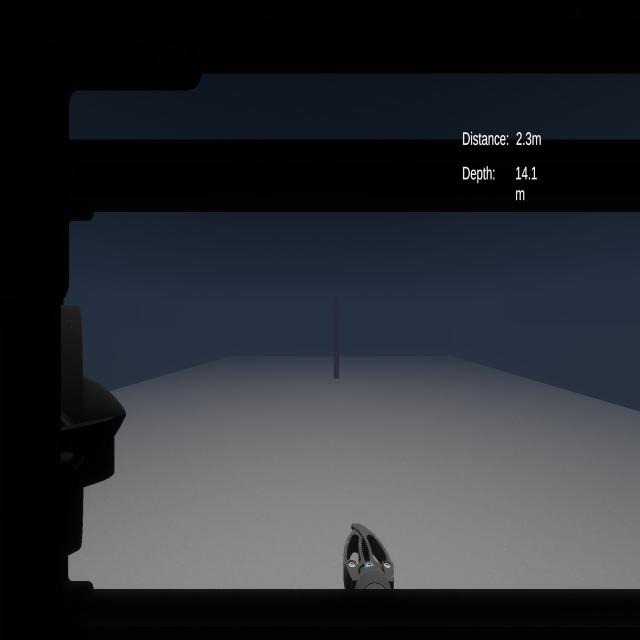Depth: (458, 158, 540, 210)
Distance: (458, 128, 548, 152)
Pole: (323, 277, 350, 386)
